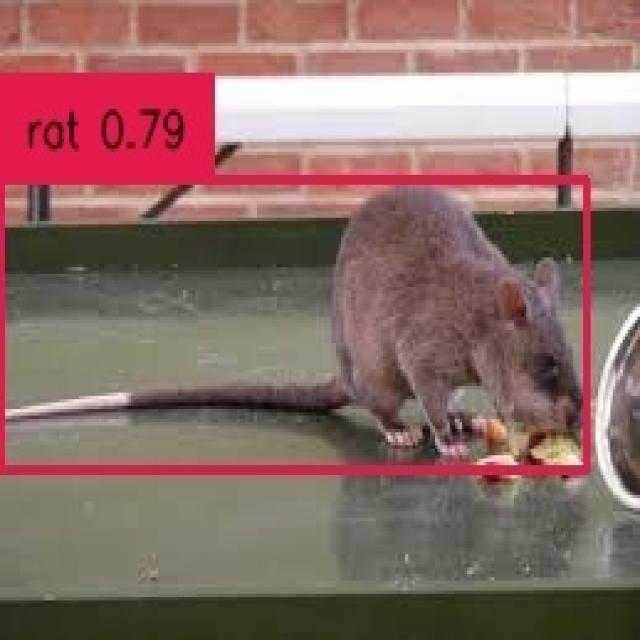rat: (0, 175, 583, 465)
